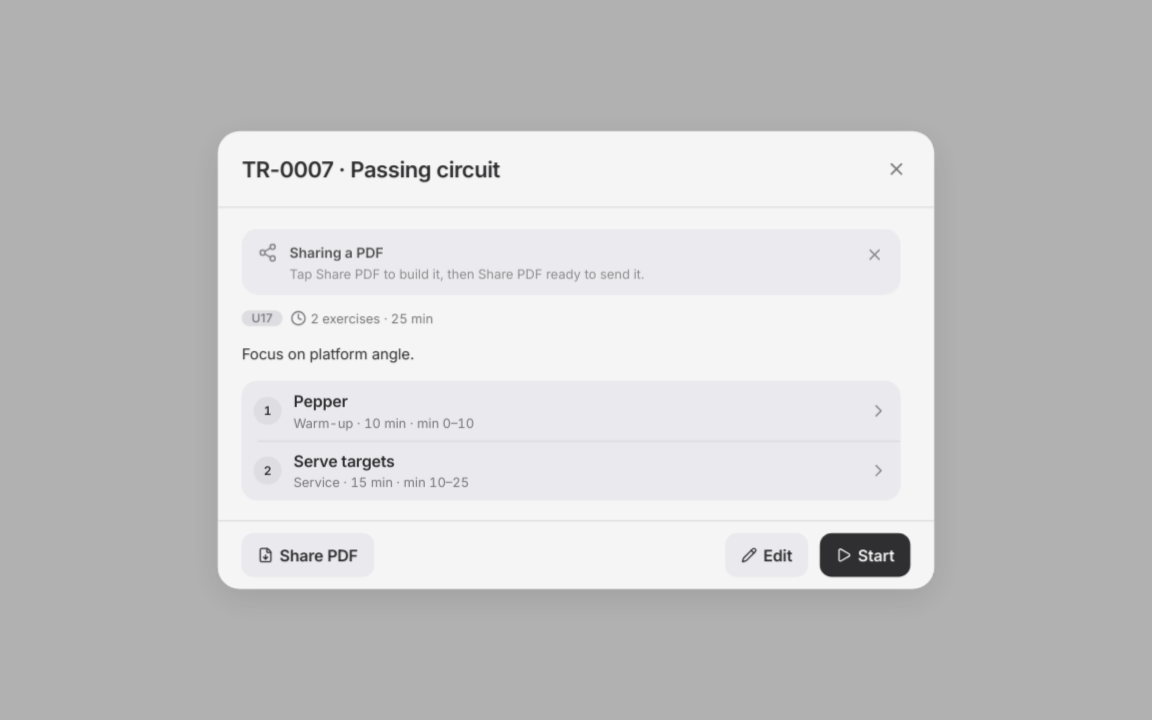
Scenario: TrainingViewSheet › pdf-share tip › shows inside the view sheet and ends when a PDF has been built
Check: the text "Sharing a PDF" is shown, box [289,243,383,260]
Click the button "Share PDF": (307, 555) [241,534,373,577]
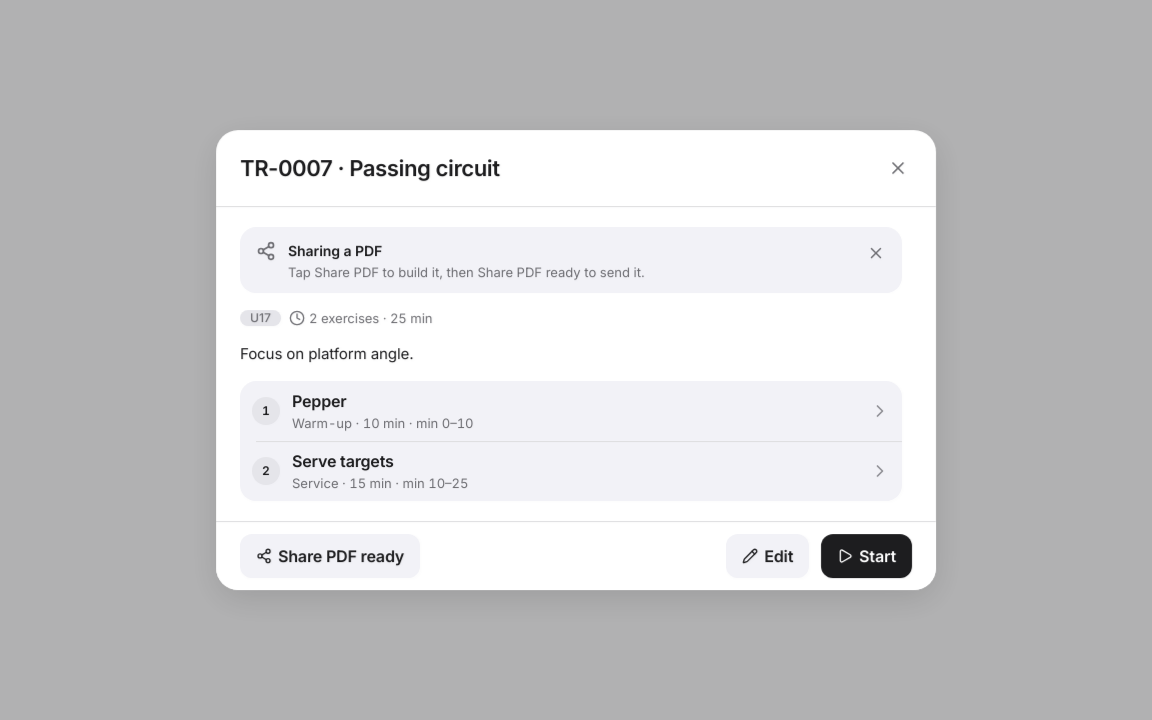
Check: the button "Share PDF ready" is shown, box [240,534,420,578]
